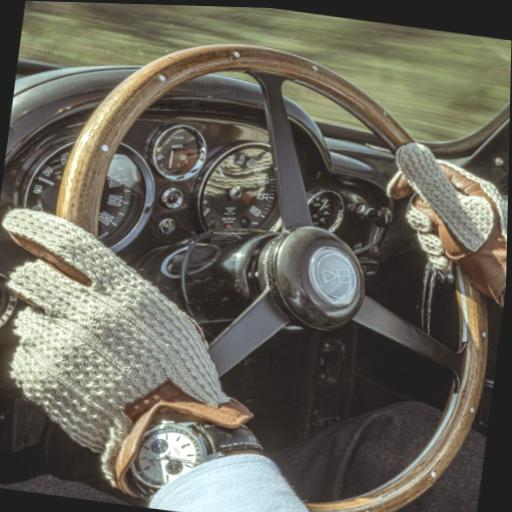Hands-on-the-Wheel: (0, 166, 306, 483), (353, 98, 510, 310)
